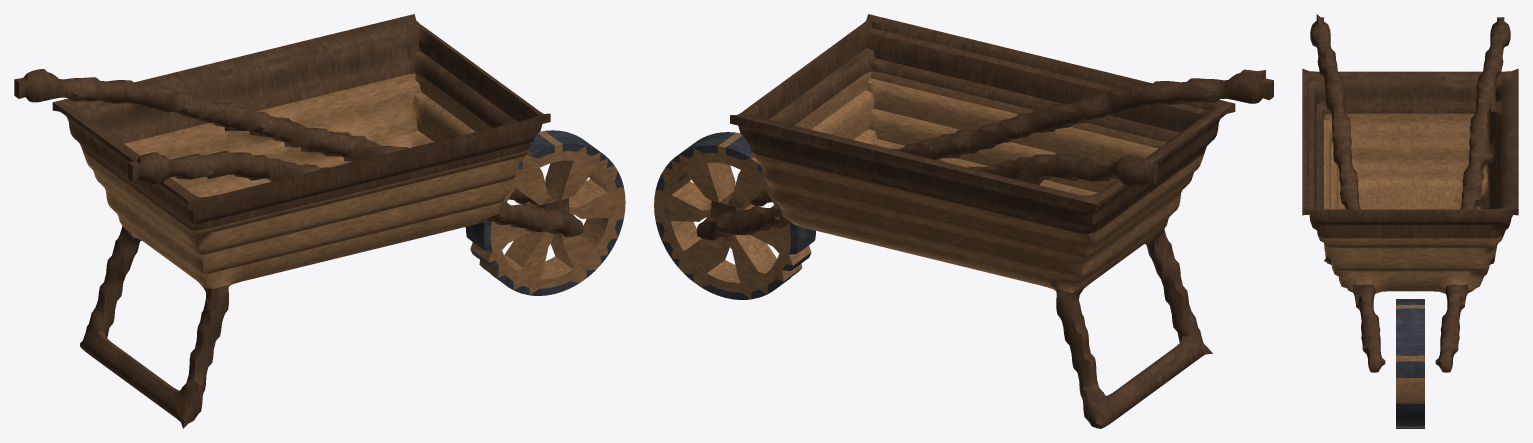
The model's file is prop_wheelbarrow.glb.
The picture shows the model from 3 angles, left to right: view 1: azimuth 30°, elevation 25°; view 2: azimuth 150°, elevation 25°; view 3: azimuth 270°, elevation 25°; orthographic projection. The views are drawn at different scales.
Parts seen in each view (by area): view 1: wilds_prop_wheelbarrow; view 2: wilds_prop_wheelbarrow; view 3: wilds_prop_wheelbarrow.
Part boxes in pixels (left/top/right/bottom): wilds_prop_wheelbarrow: left=14, top=14, right=625, bottom=428; wilds_prop_wheelbarrow: left=654, top=14, right=1273, bottom=428; wilds_prop_wheelbarrow: left=1302, top=14, right=1518, bottom=428.
Size of the model in its own units: 1.22 by 0.62 by 0.5312.
1 material, 1 textured.
